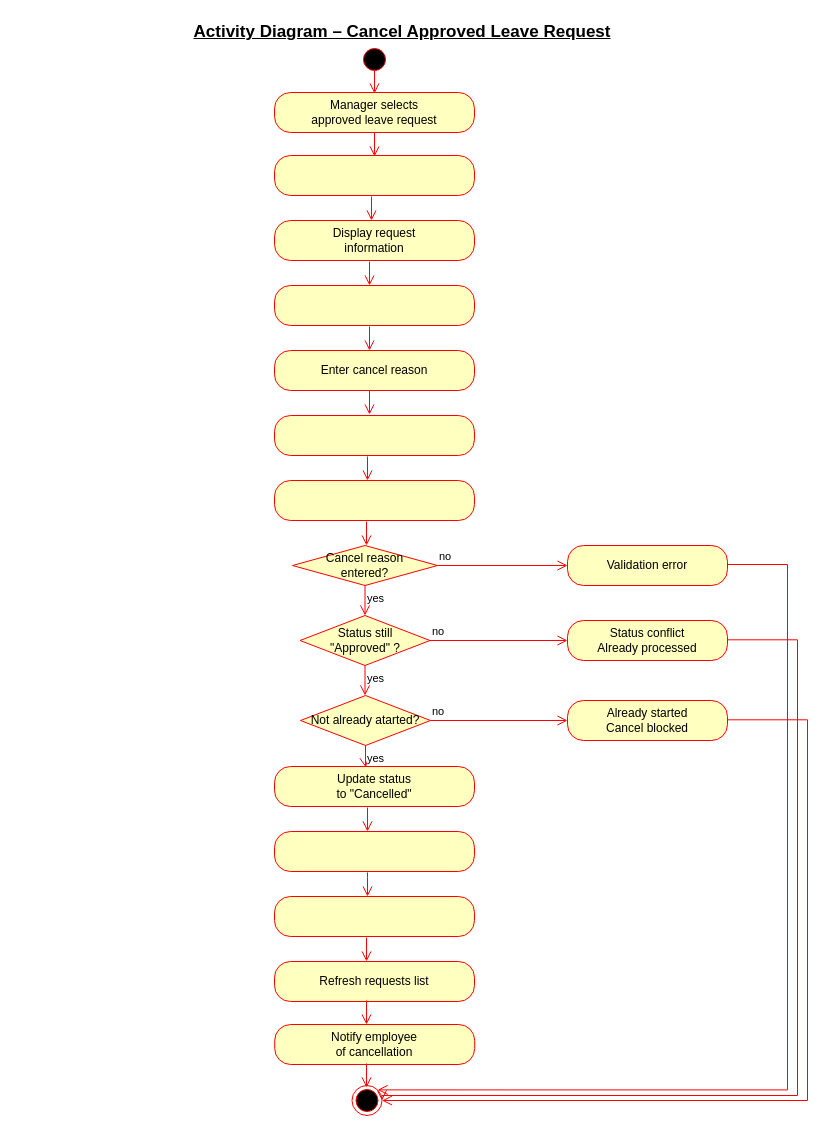
The diagram is 835 pixels wide and 1133 high, and some of its shapes have lost their labels. The shapes that lost their labels are listed below. From the top down, each one's box as (x1, y1, x2, y2) in pixels, then its label:
(274, 154, 474, 196): Open request details (modal)
(274, 284, 474, 326): Manager reviews request details
(274, 414, 474, 456): Click "Cancel request"
(274, 480, 474, 520): System validates input
(274, 830, 474, 872): Restore hours to employee balance
(274, 896, 474, 936): Record audit log Manager,time, reason
